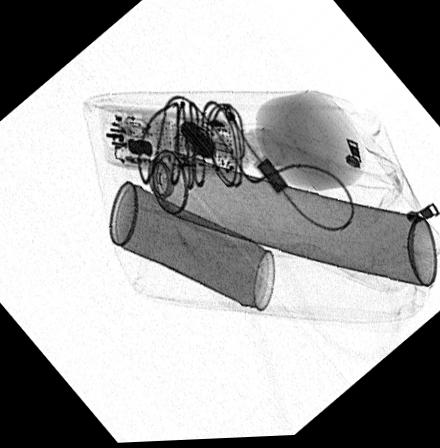Sprayer: (105, 134, 437, 289)
